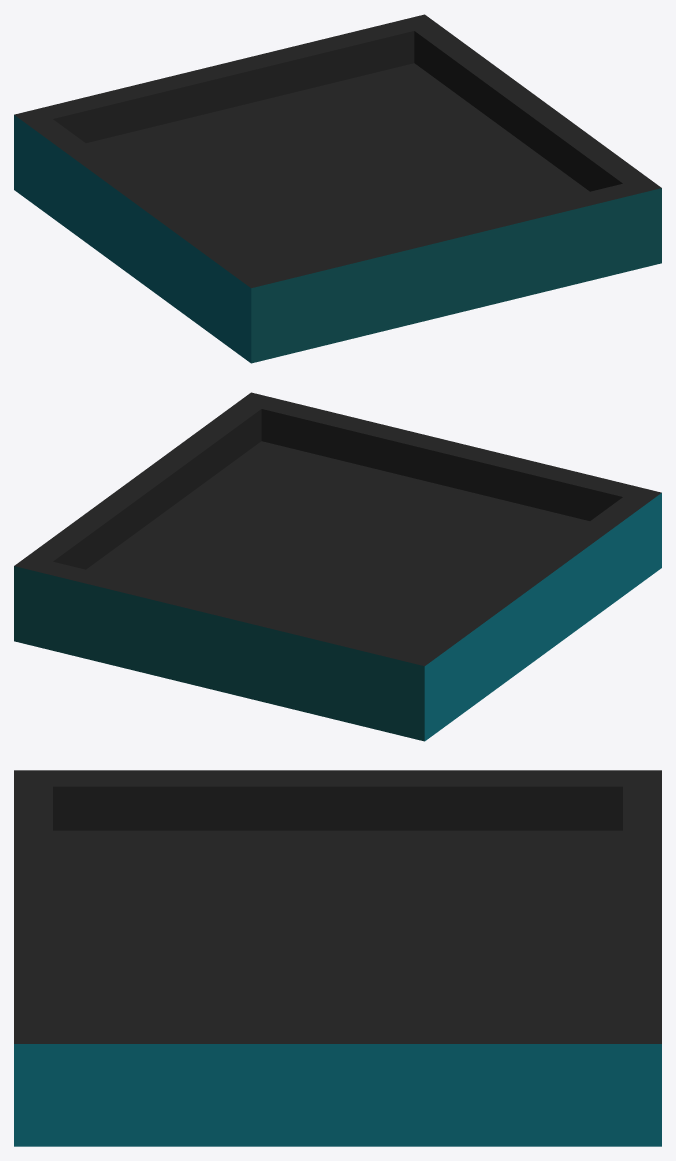
Rendered from tile.gltf.
The picture shows the model from 3 angles, top to bottom: view 1: azimuth 30°, elevation 25°; view 2: azimuth 150°, elevation 25°; view 3: azimuth 270°, elevation 25°; orthographic projection. The views are drawn at different scales.
Visible parts, largest first — view 1: cuboid; view 2: cuboid; view 3: cuboid.
Part boxes in pixels (x1,y1,x2,y2): cuboid: (14,14,661,363); cuboid: (14,392,661,741); cuboid: (14,770,661,1146).
Size of the model in its own units: 0.0625 by 0.0141 by 0.0625.
3 materials, 3 textured.
